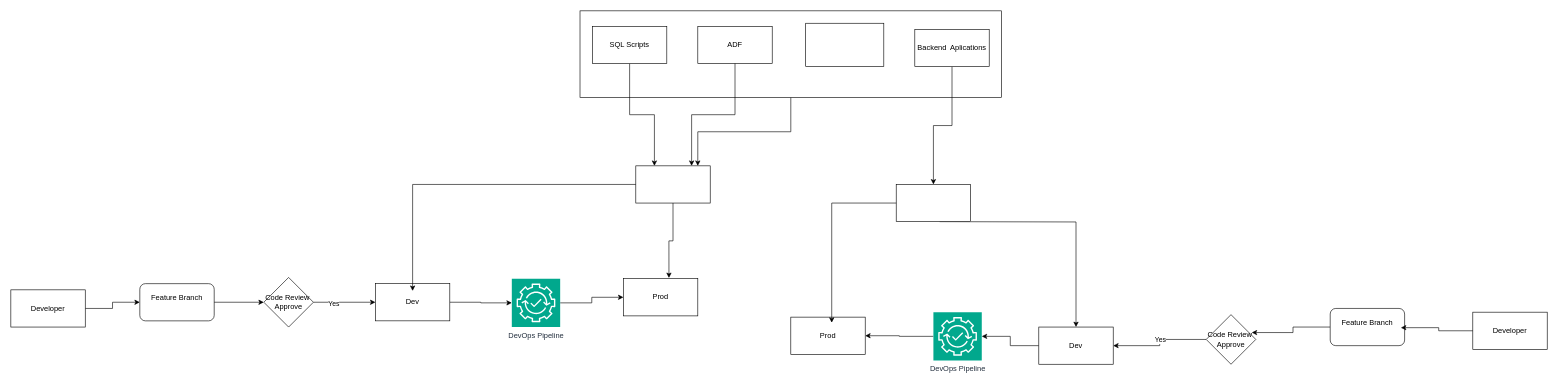
Some shapes in this 1558 by 384 pixel diagram are drawn without their labels. The centre of each missing label's shape, as x and y in pixels:
Application Code Repository: the point at 933,203
Data Pipeline Repository: the point at 672,184
SSIS: the point at 844,45
